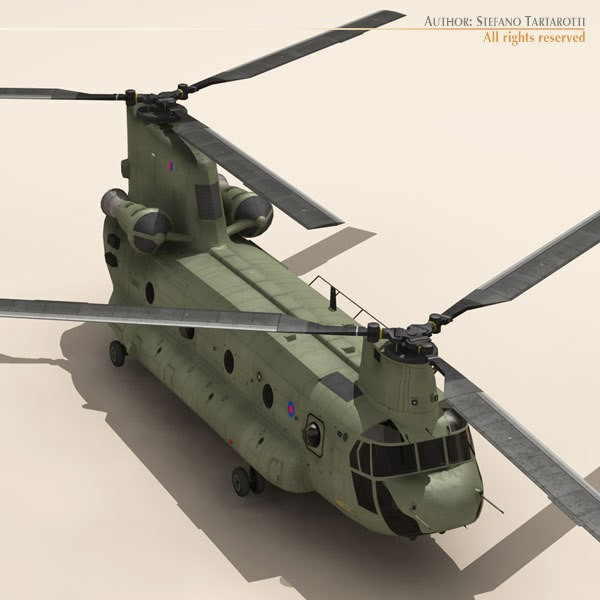chinook: (8, 45, 600, 532)
